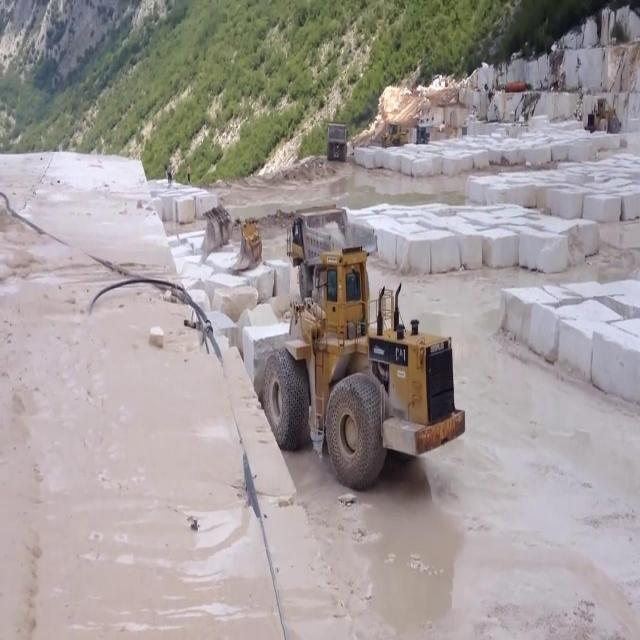Dump Truck: (285, 202, 378, 290), (326, 118, 350, 163)
Loader: (262, 244, 466, 491), (586, 99, 622, 135)
